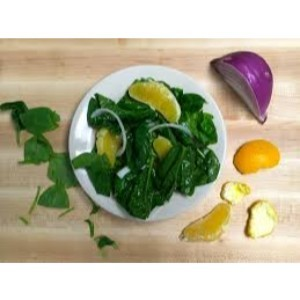spinach_brain food: (80, 87, 208, 214), (14, 100, 66, 209)
